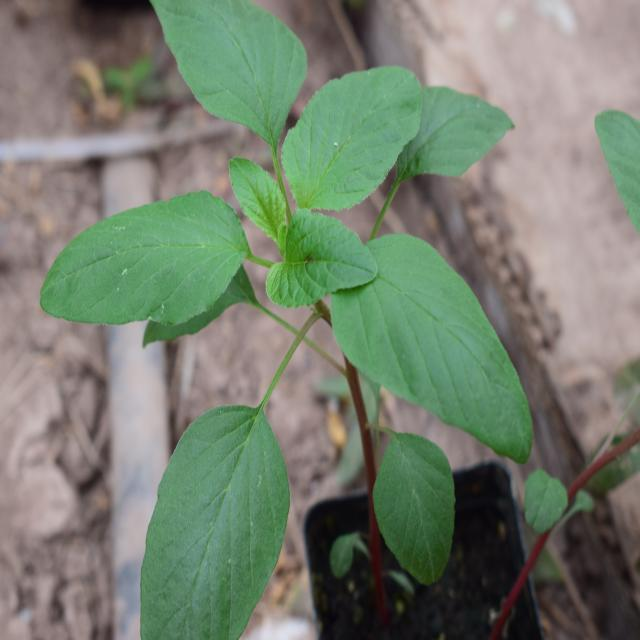pigweed: (76, 6, 514, 586)
